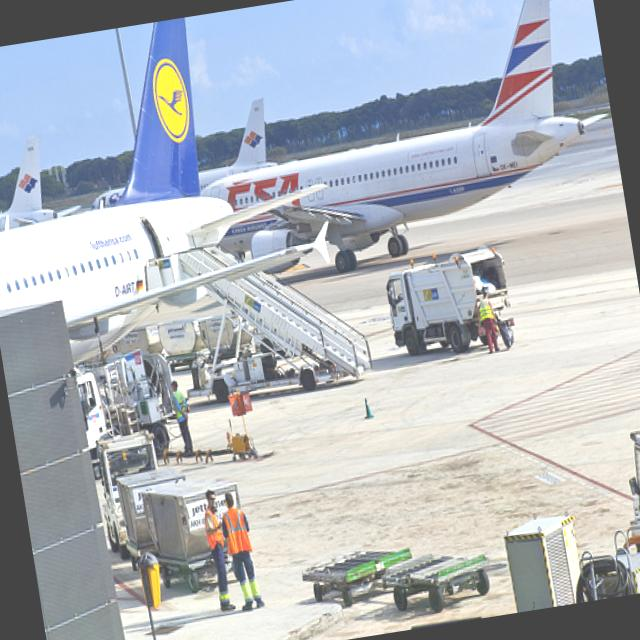Vehicle: (382, 241, 518, 359), (92, 429, 172, 562), (74, 368, 116, 480), (613, 422, 640, 593)
